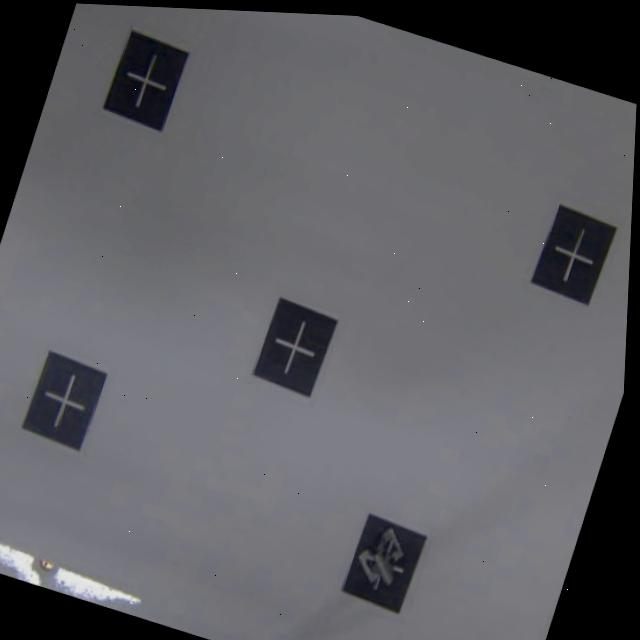pick2: (337, 510, 427, 613)
